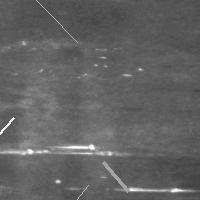scratches: (13, 0, 82, 47), (1, 141, 119, 160), (98, 157, 133, 196), (113, 181, 198, 196), (0, 113, 18, 176), (63, 180, 93, 200)
